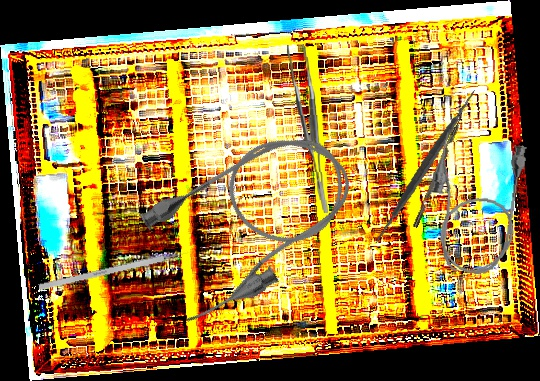Cannula: (125, 108, 378, 335), (421, 128, 529, 278)
Chopper: (407, 108, 466, 229)
Hook Surgical: (38, 248, 194, 291)
Spatula Surgical: (348, 89, 503, 244)
Tissue Forceps: (287, 43, 328, 215)
